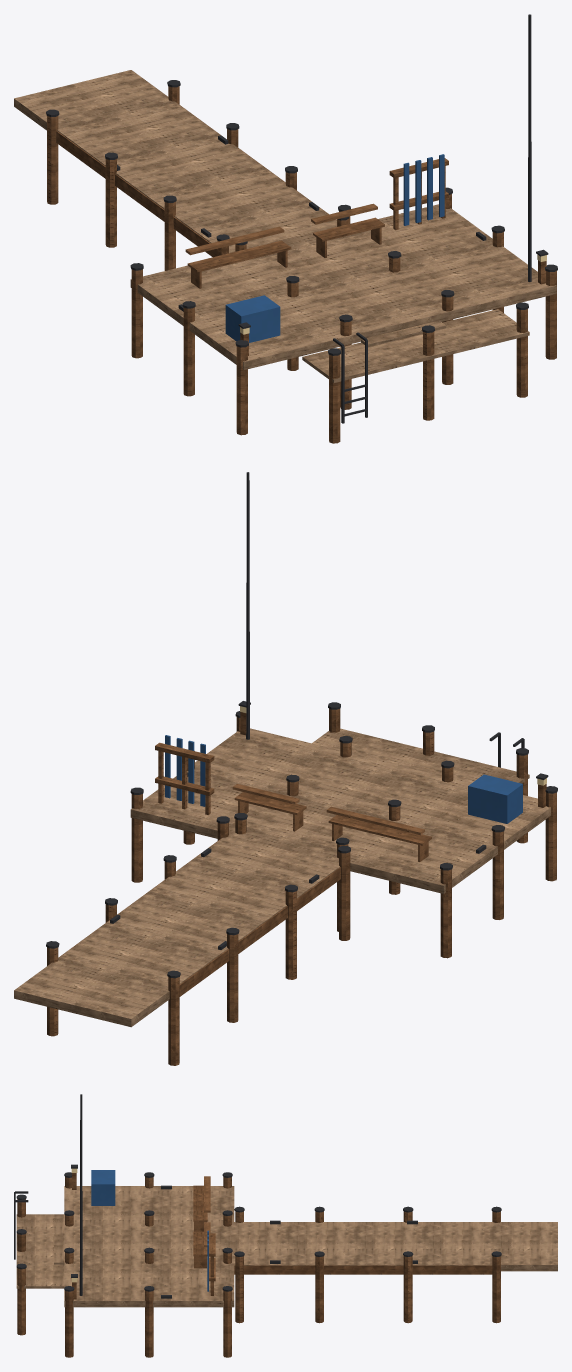
Rendered from tour_start_dock.fbx.
The picture shows the model from 3 angles, top to bottom: view 1: azimuth 30°, elevation 25°; view 2: azimuth 150°, elevation 25°; view 3: azimuth 270°, elevation 25°; orthographic projection. The views are drawn at different scales.
Visible parts, largest first — view 1: tour_start_dock_LOD0; view 2: tour_start_dock_LOD0; view 3: tour_start_dock_LOD0.
Part boxes in pixels (x1,y1,x2,y2): tour_start_dock_LOD0: (14,14,557,443); tour_start_dock_LOD0: (14,472,557,1065); tour_start_dock_LOD0: (14,1094,557,1357).
Size of what is drawn, in the model's own units: 8.2 by 8.3 by 15.97.
1 material, 1 textured.
